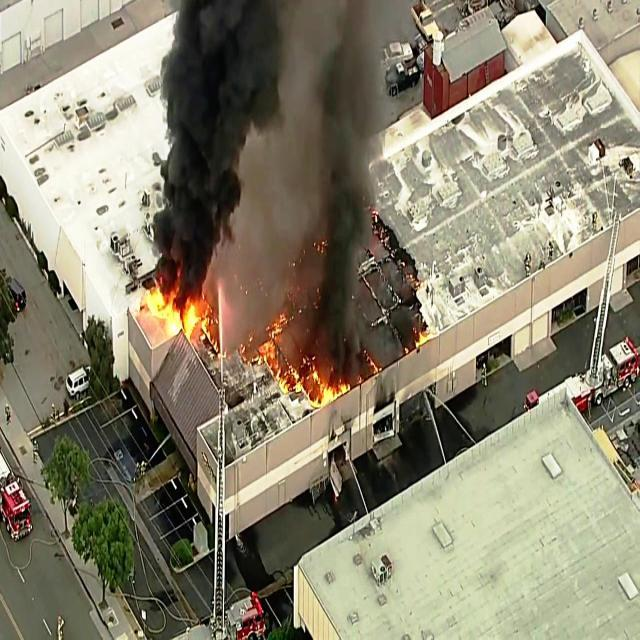Fire: (138, 282, 214, 348)
Smoke: (301, 2, 381, 305), (159, 11, 237, 270)
